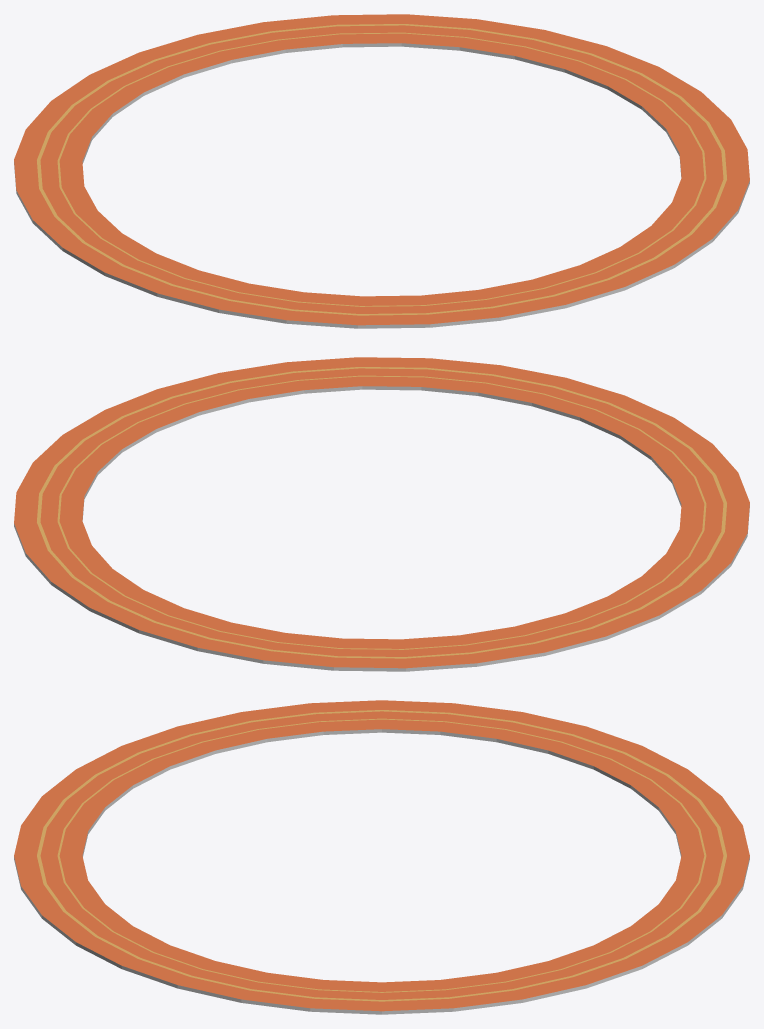
File: Circus.fbx
3 renders of one model, top to bottom at view 1: azimuth 30°, elevation 25°; view 2: azimuth 150°, elevation 25°; view 3: azimuth 270°, elevation 25°, orthographic.
Visible parts, largest first — view 1: platform3.001; view 2: platform3.001; view 3: platform3.001.
Part boxes in pixels (x1,y1,x2,y2): platform3.001: (14, 14, 749, 328); platform3.001: (14, 357, 749, 671); platform3.001: (14, 700, 749, 1014).
Size of the model in its own units: 3381 by 17.64 by 3381.
